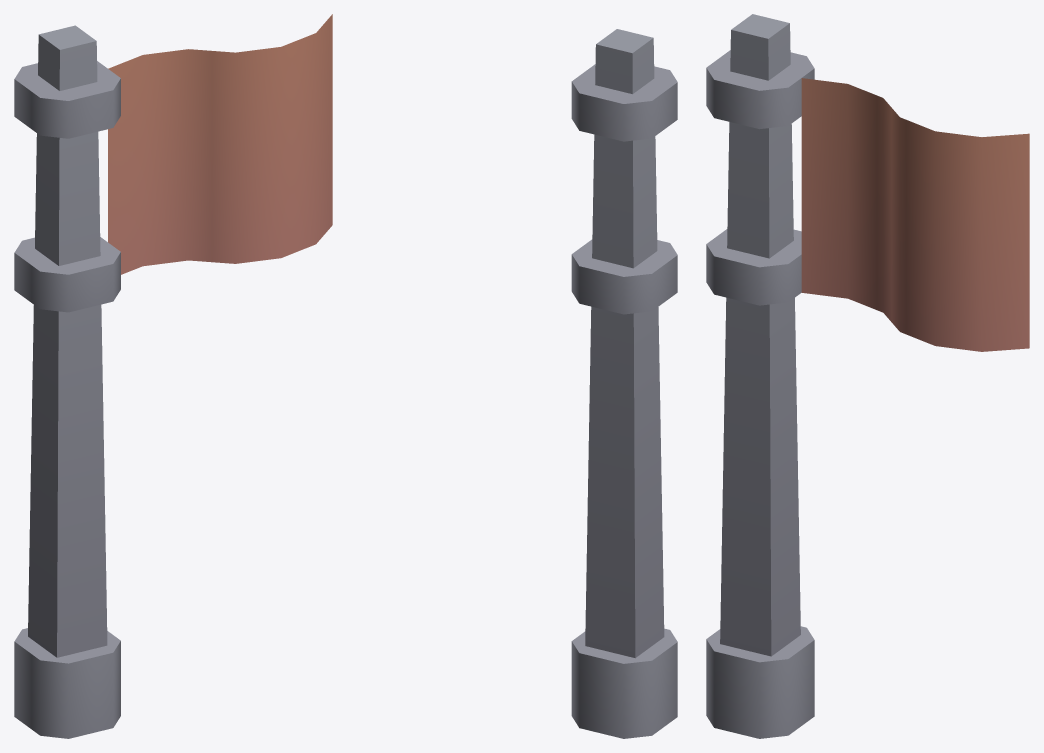
File: goal_flag.glb
3 renders of one model, left to right at view 1: azimuth 30°, elevation 25°; view 2: azimuth 150°, elevation 25°; view 3: azimuth 330°, elevation 25°, orthographic. The views are drawn at different scales.
Parts seen in each view (by area): view 1: goal_flag; view 2: goal_flag; view 3: goal_flag.
Boxes of the visible parts, x1,y1,x2,y2 form: goal_flag: (14, 14, 332, 738); goal_flag: (571, 29, 677, 738); goal_flag: (706, 14, 1029, 738).
Bounding box in the file's own units: 0.4235 × 0.9 × 0.112.
